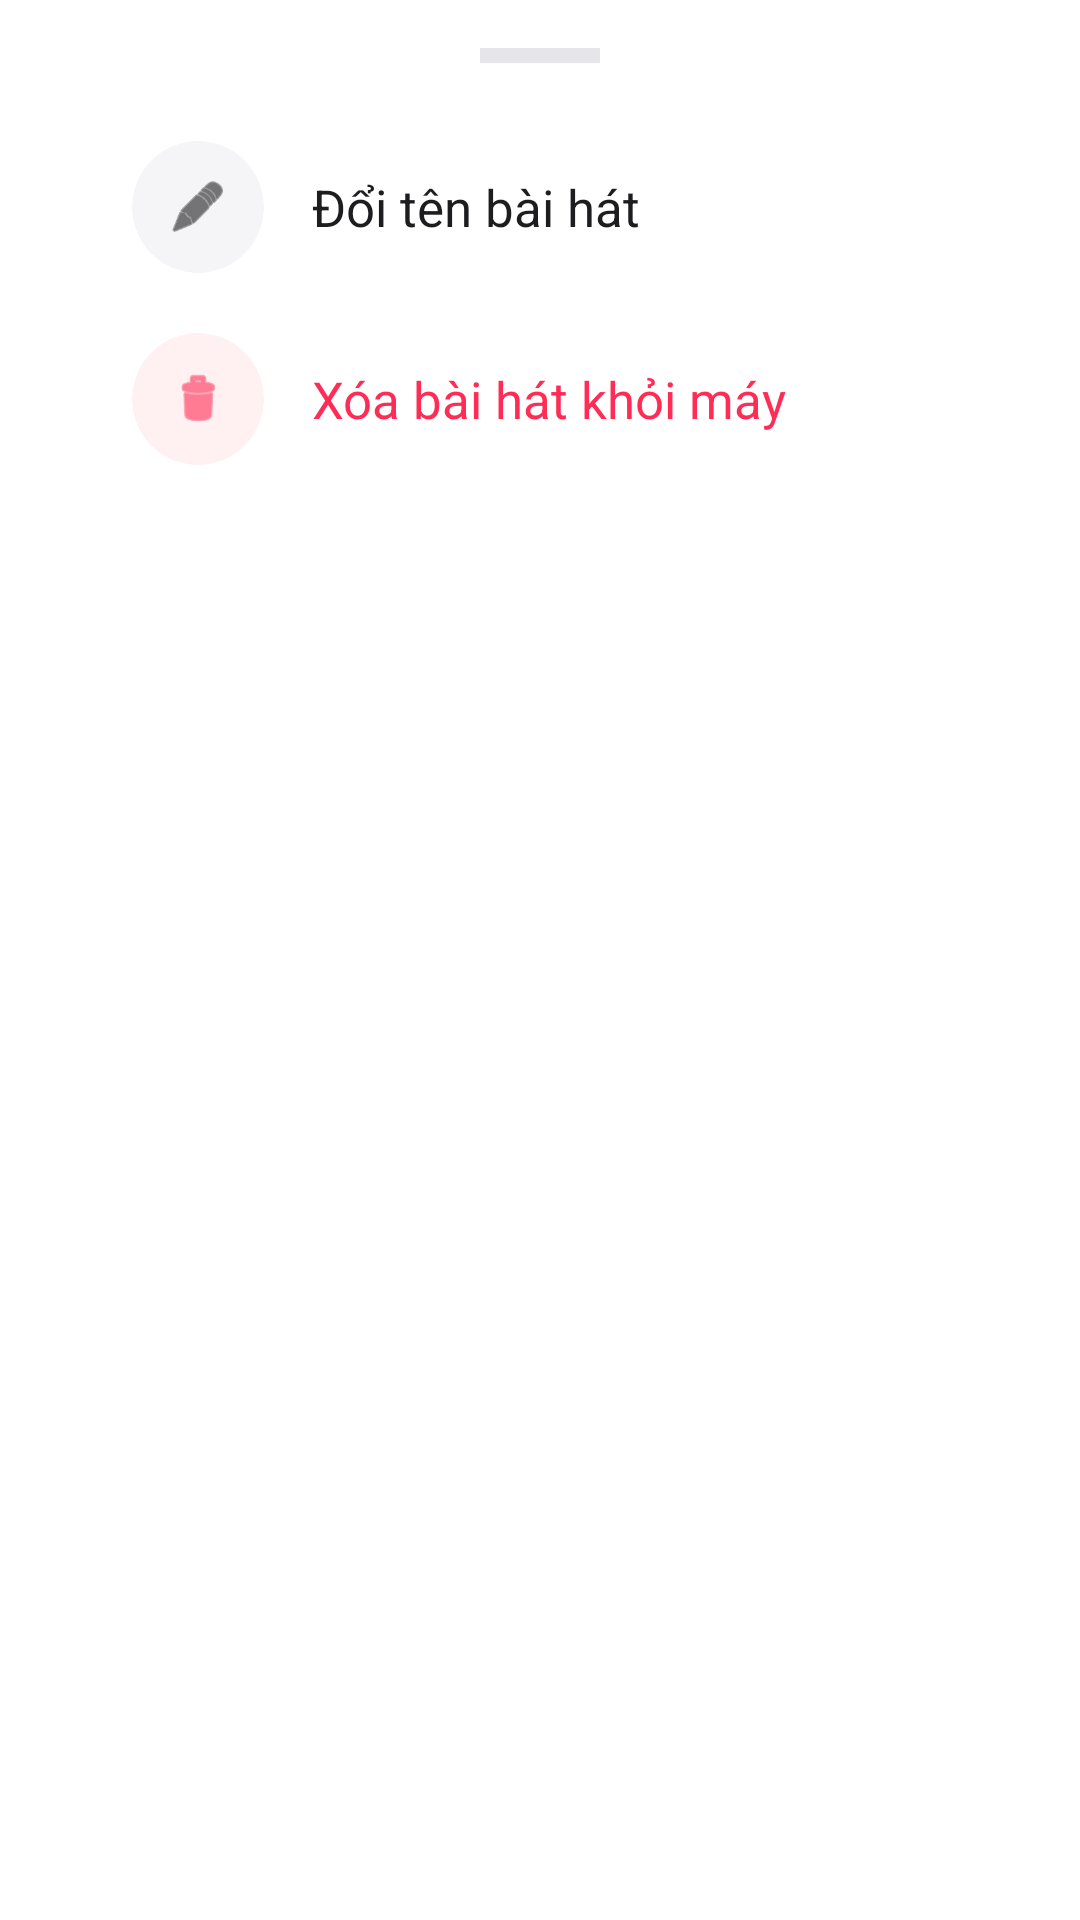

Icons on this 1080w x 1920h Android screen, each with its box as (x1, y1, x2, y2):
delete: (181, 375, 215, 422)
edit: (172, 181, 223, 232)
